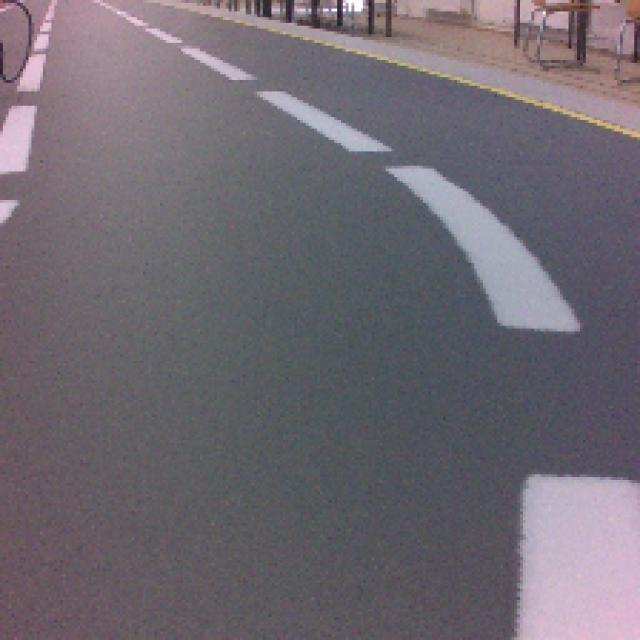Road: (0, 457, 531, 640)
